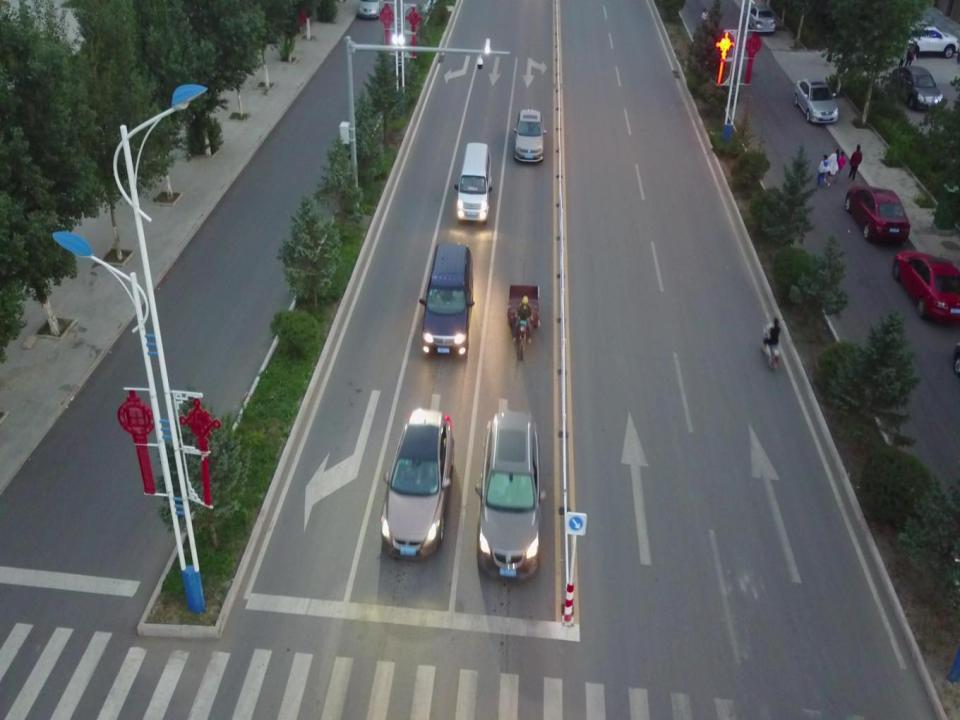car: (473, 410, 547, 581), (379, 408, 453, 562), (892, 250, 960, 320), (844, 184, 911, 244), (894, 22, 959, 58), (891, 66, 943, 110), (794, 77, 838, 123), (513, 106, 547, 163), (745, 6, 776, 32), (358, 0, 380, 22)
van: (420, 242, 473, 360), (453, 140, 493, 222)
